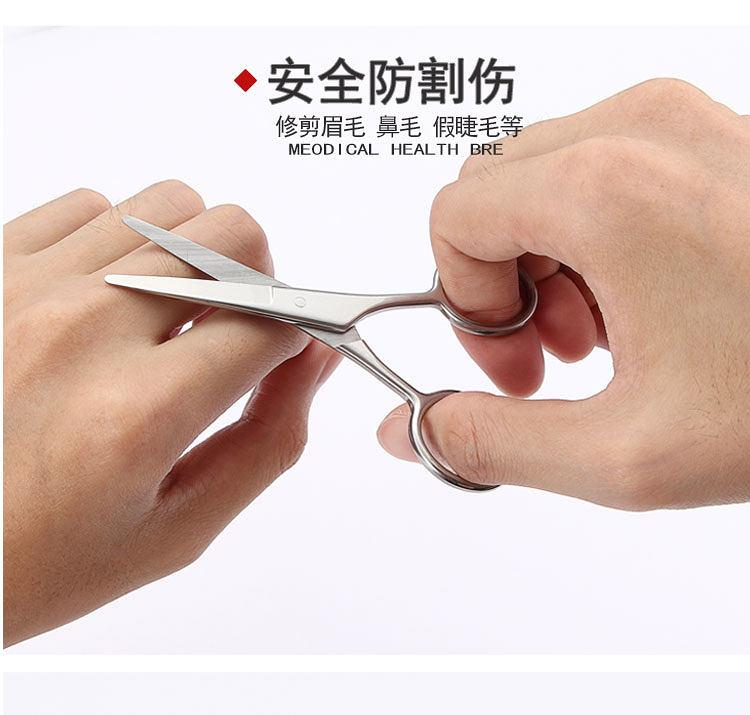scissor: (114, 165, 644, 537)
